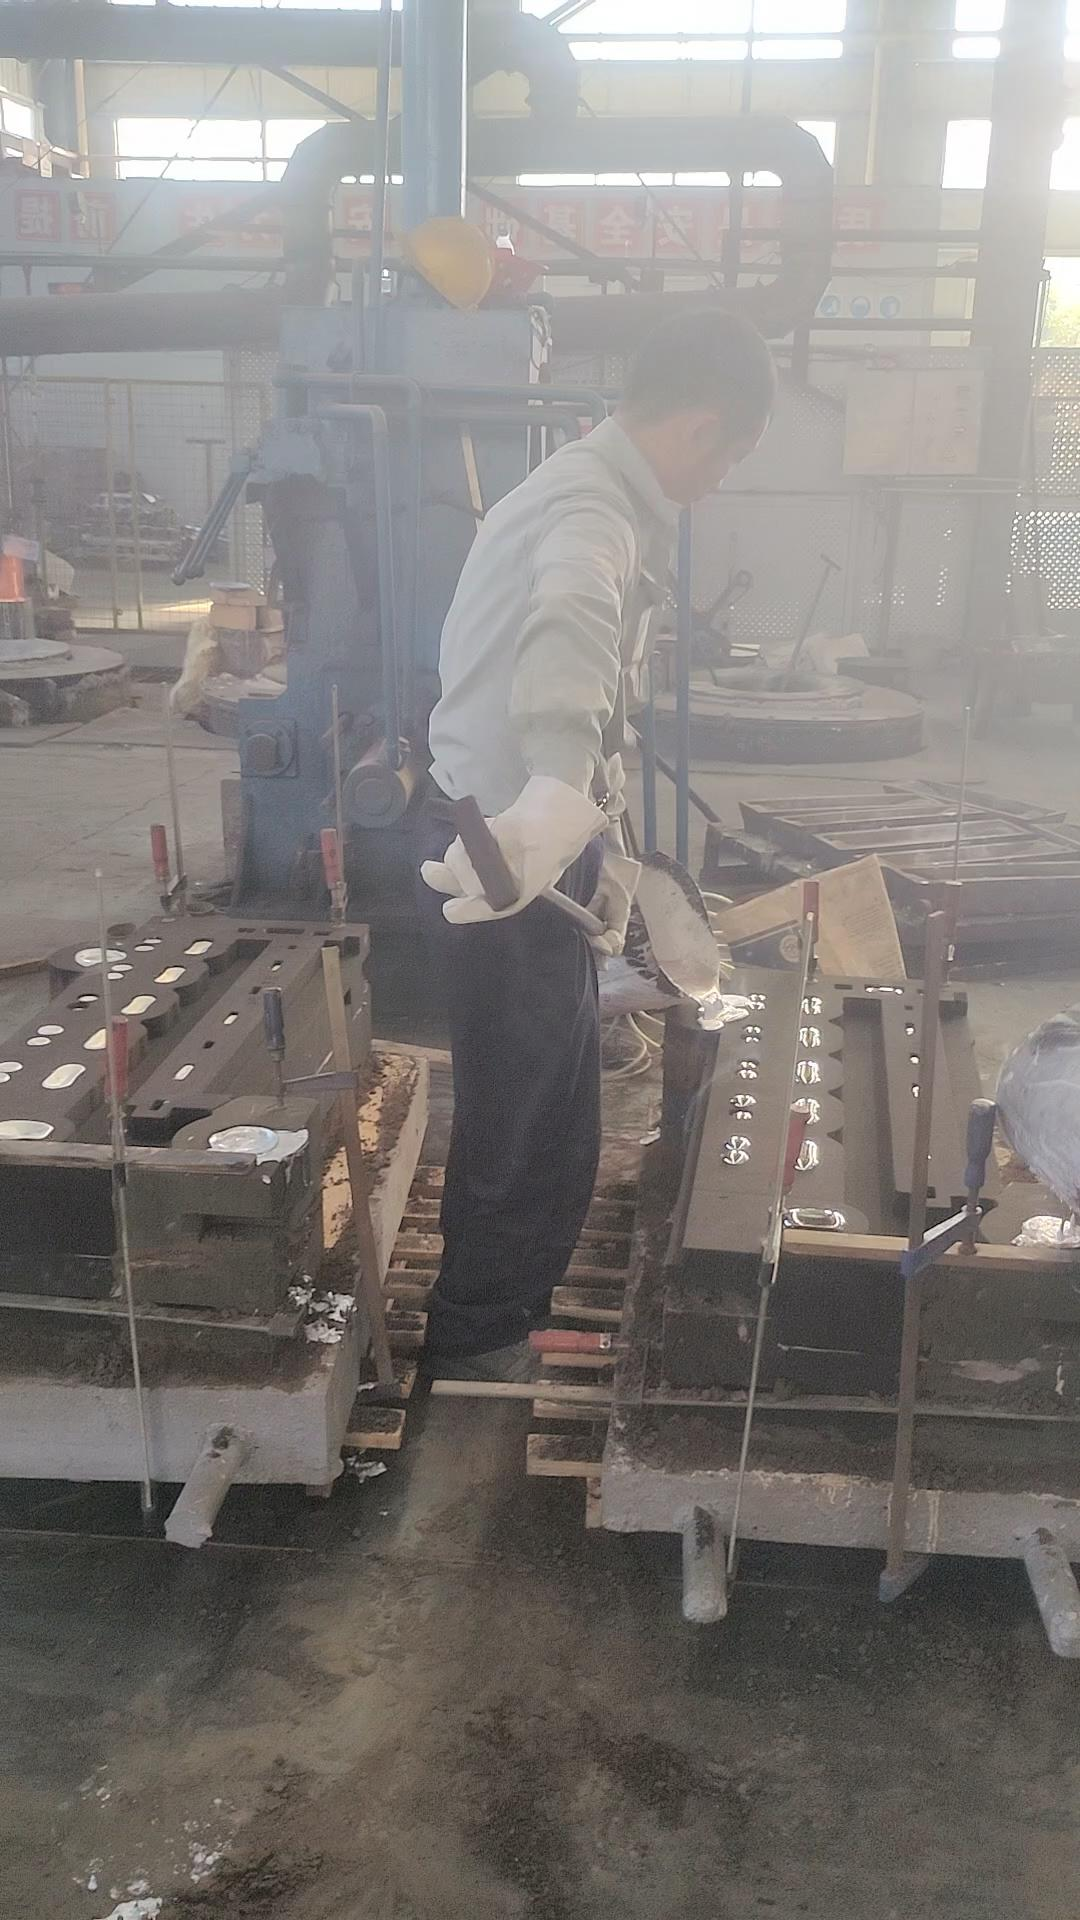pouring hole: (208, 1121, 276, 1158), (1015, 1213, 1080, 1250), (691, 994, 745, 1026), (75, 945, 125, 967), (104, 920, 137, 938), (185, 899, 215, 915), (218, 903, 239, 916)
